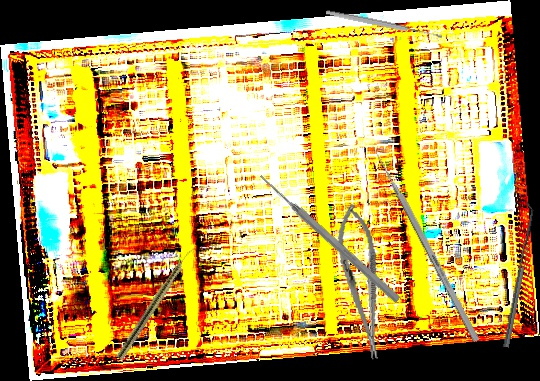Handpiece: (115, 242, 198, 362)
Needle Holder: (330, 200, 393, 364)
Pusher: (368, 141, 481, 343), (256, 171, 403, 305)
Spatula Surgical: (498, 201, 537, 348)
Surgical Spoon: (325, 8, 443, 41)
